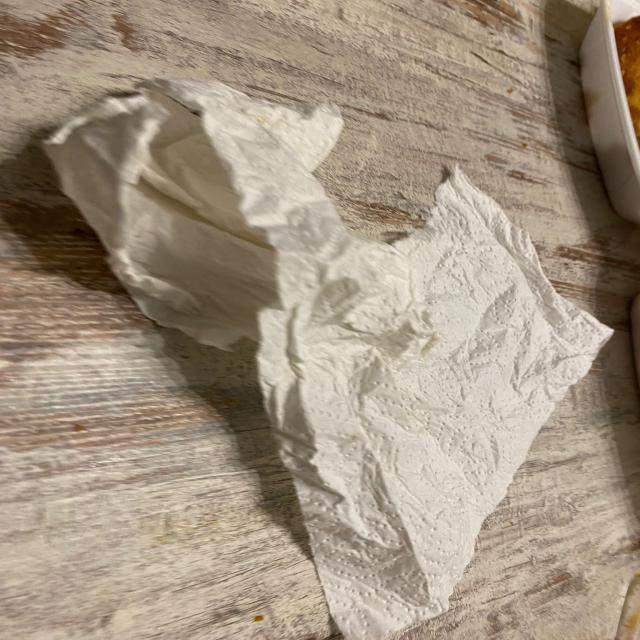kitchen paper: (42, 70, 612, 640)
